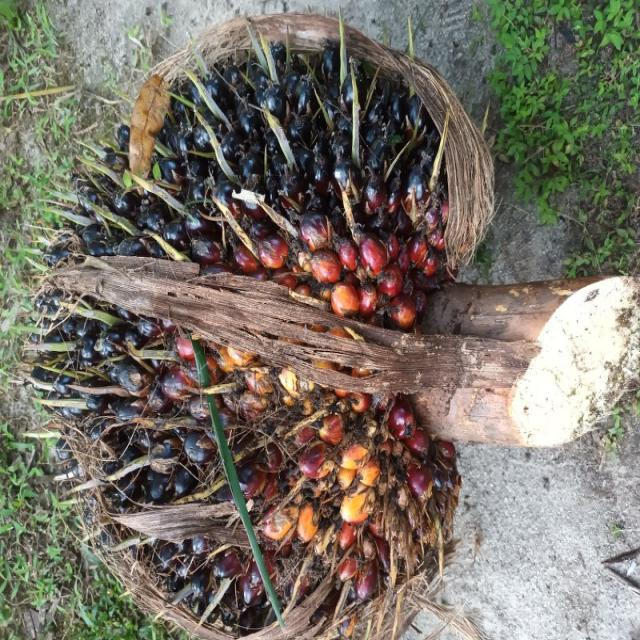fraksi 00: (2, 23, 464, 640)
